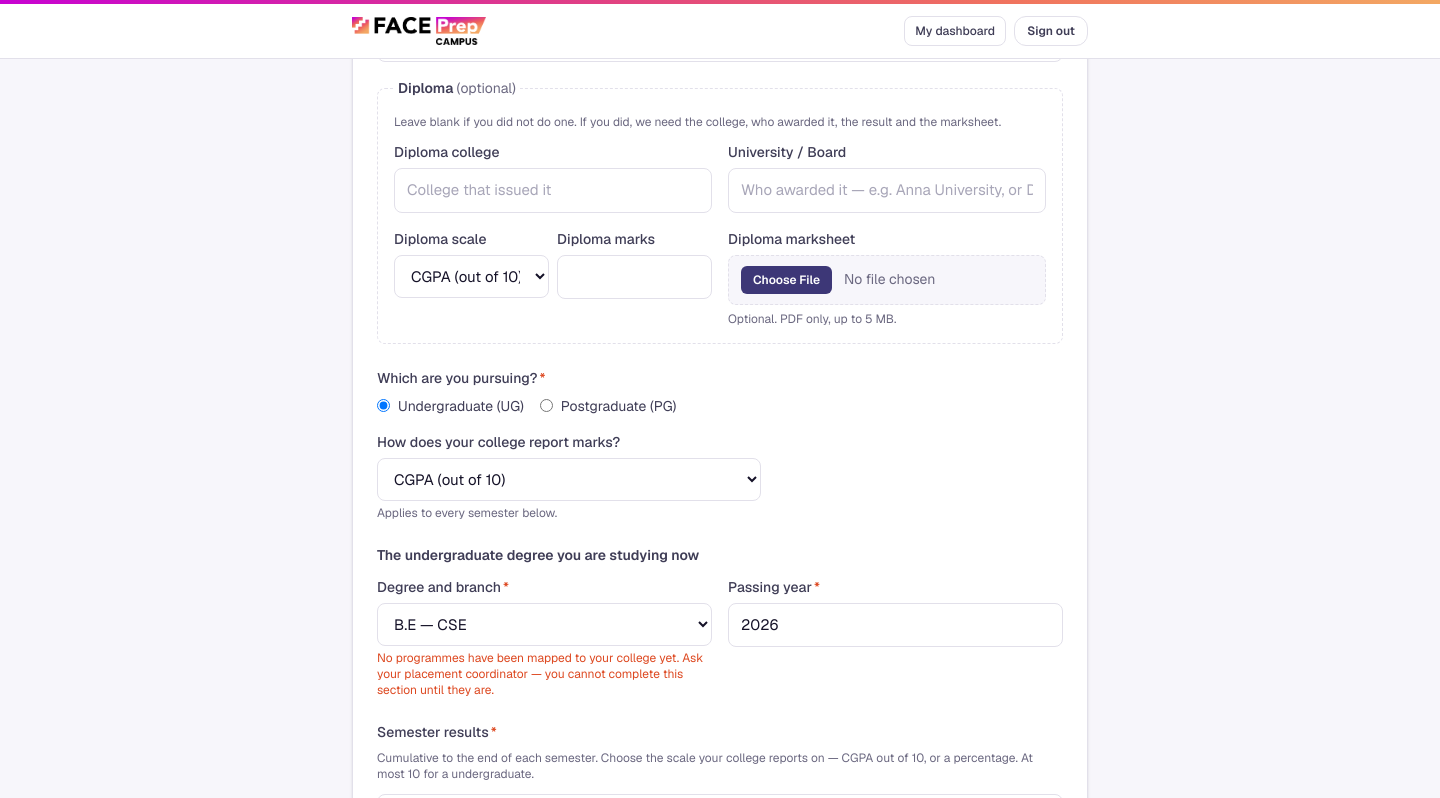
Test: SRF validation › semester-wise academics › stops a postgraduate at four, and asks for their completed UG result
(page scrolled)
Click the radio button labelled "Postgraduate (PG)". click: (546, 406)
box: 540,399 -> 553,412
(page scrolled)
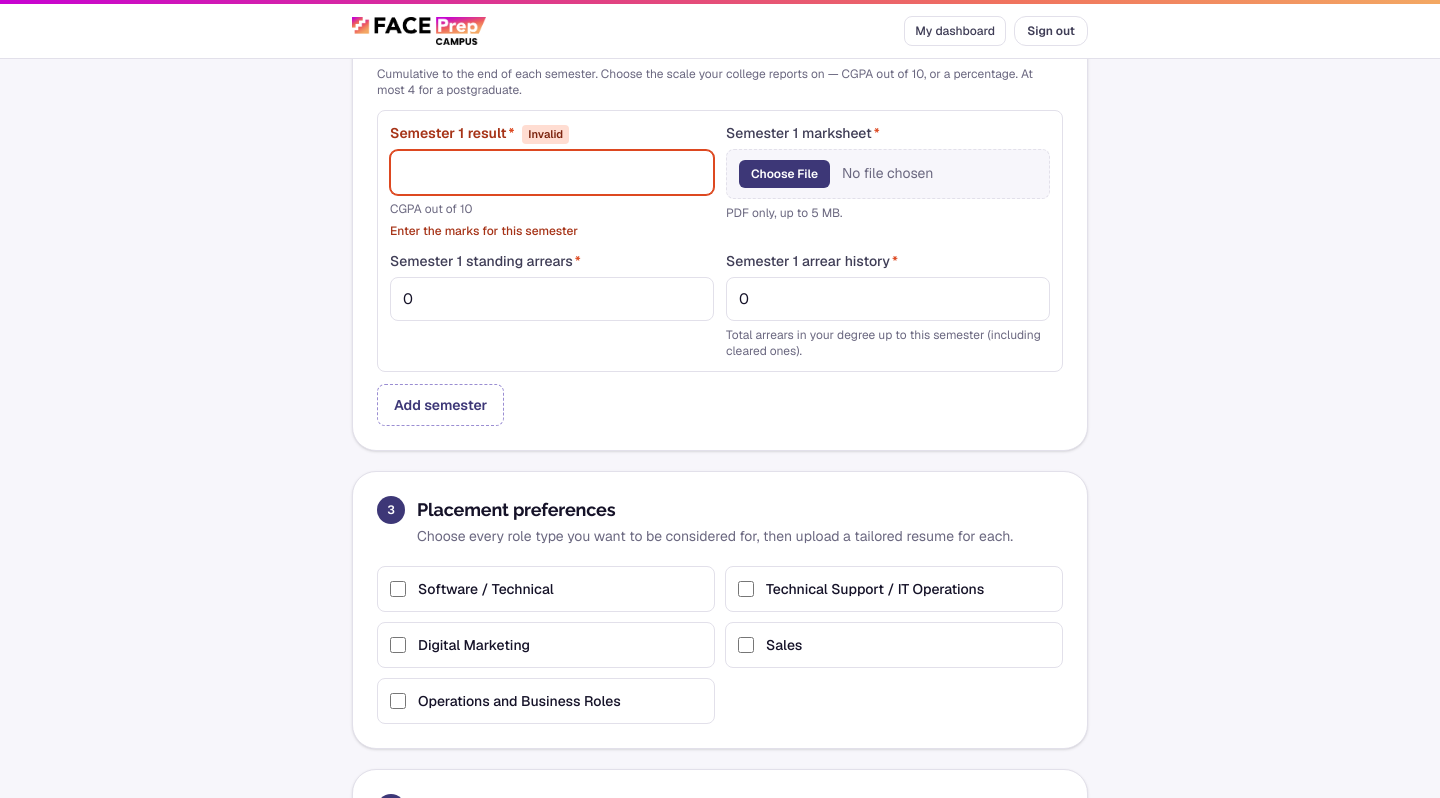
Click the button "Add semester". click: (441, 405)
box: 377,384 -> 504,426
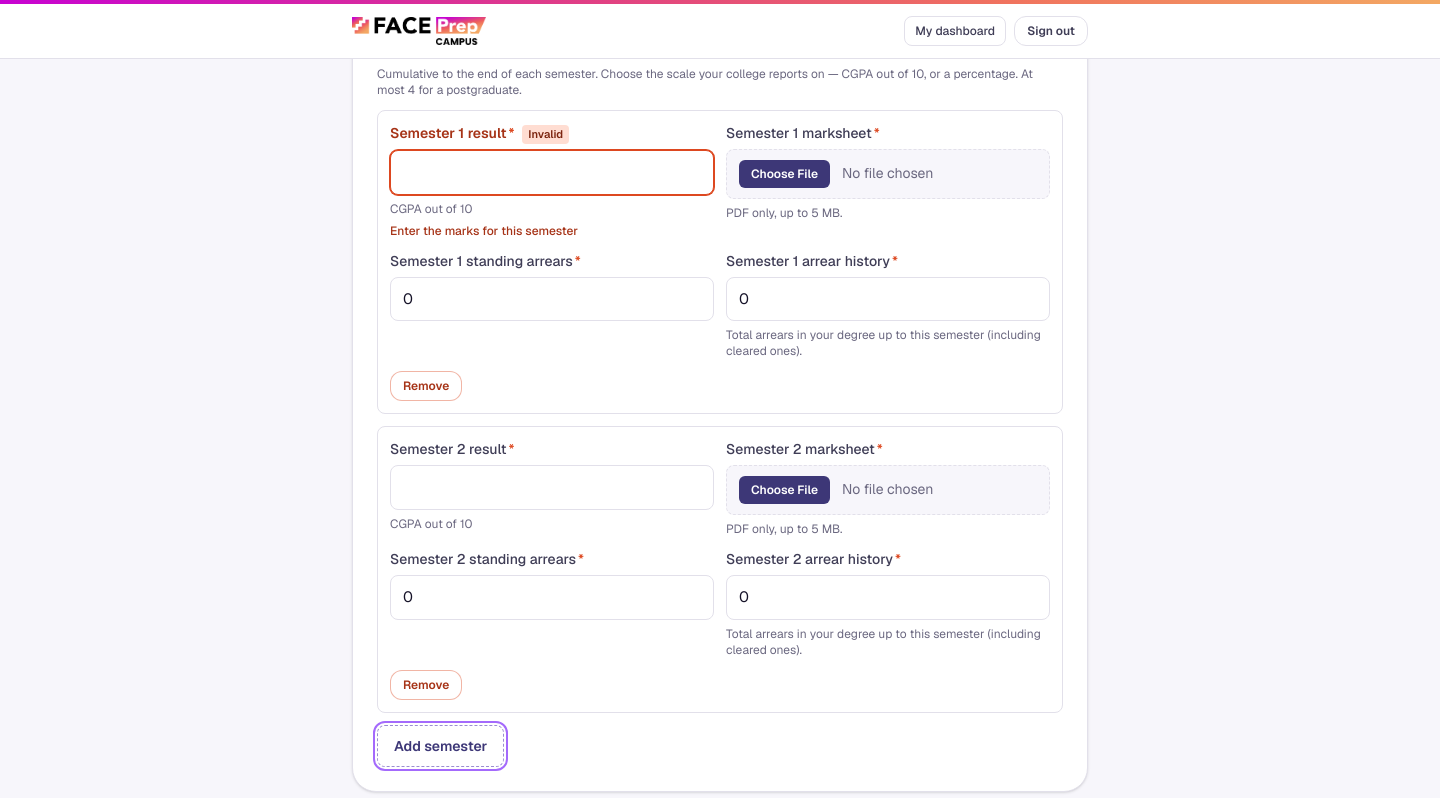
Click the button "Add semester". click: (441, 746)
box: 377,725 -> 504,767
(page scrolled)
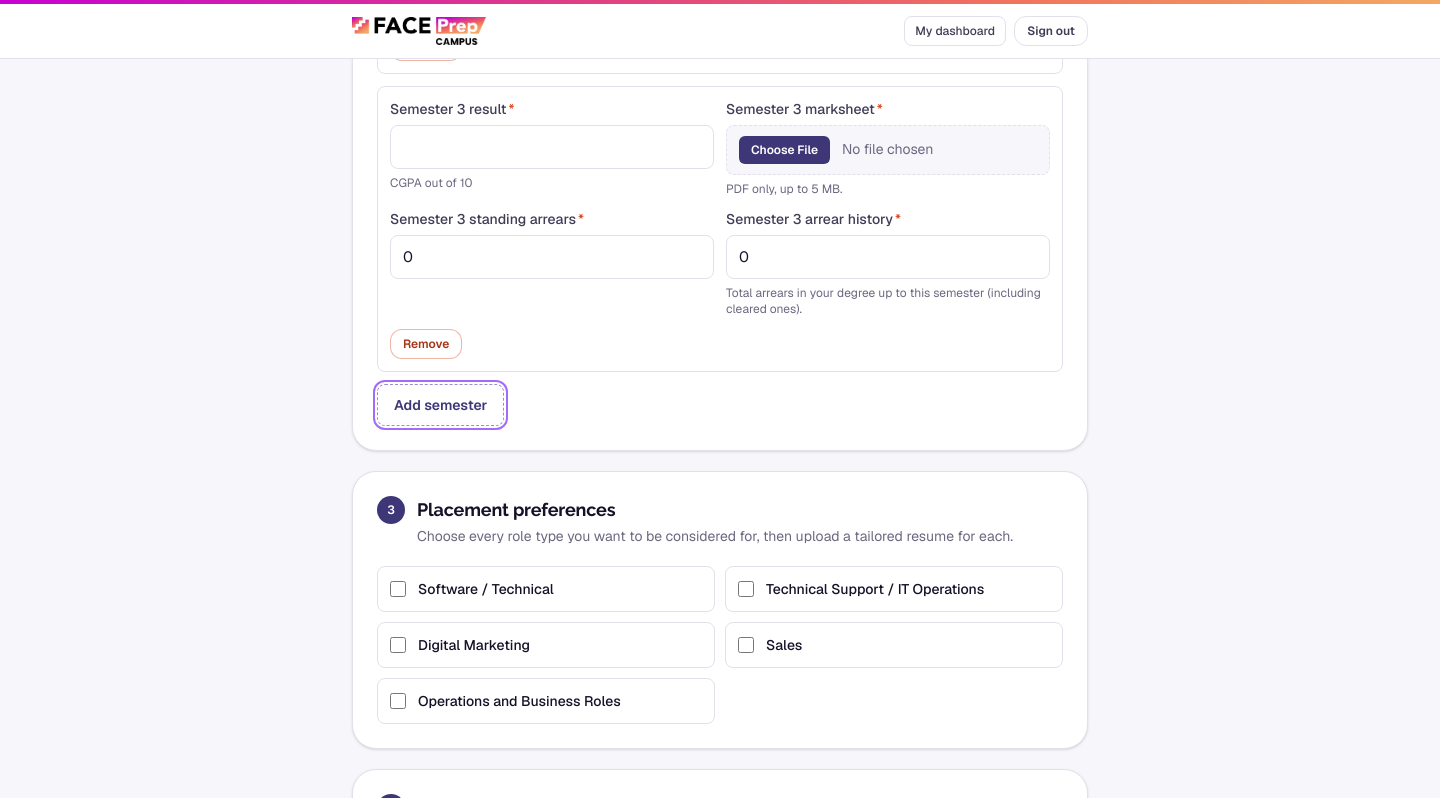
Click the button "Add semester". click: (441, 405)
box: 377,384 -> 504,426
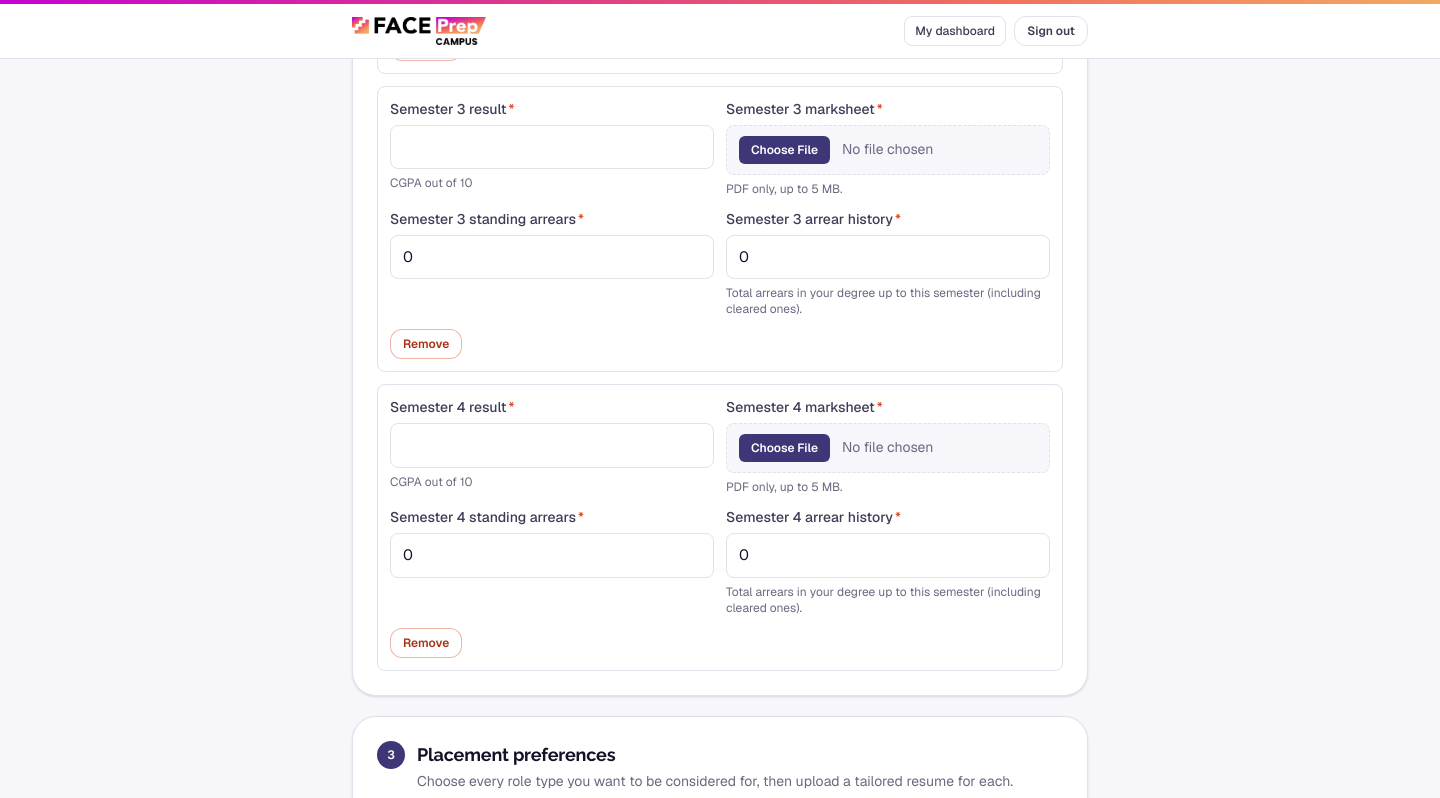
Check: the number field labelled "Semester 4 result*" is shown, box 390,423 -> 714,468
